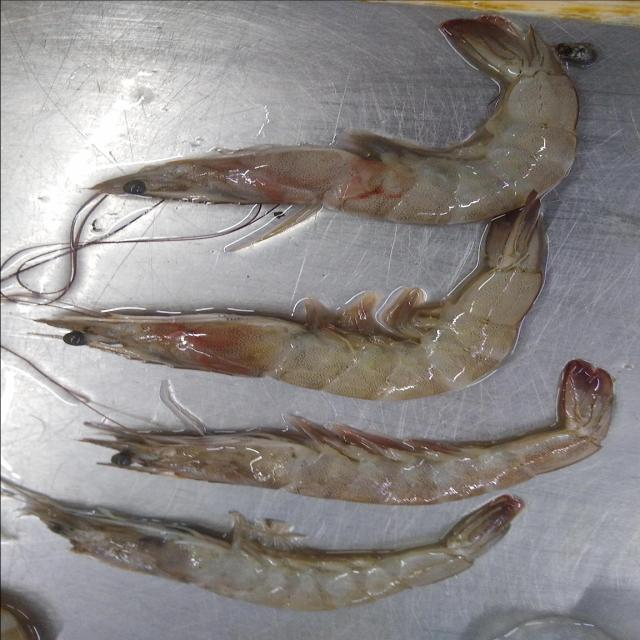shrimp: (38, 196, 544, 400), (93, 15, 578, 224), (82, 360, 613, 505), (2, 480, 524, 611)
